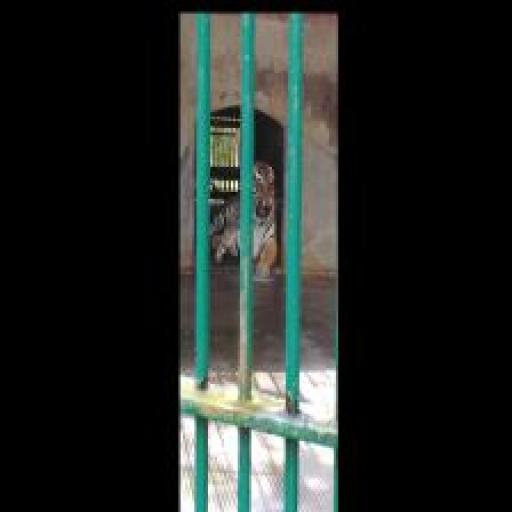Tiger: (210, 156, 282, 276)
